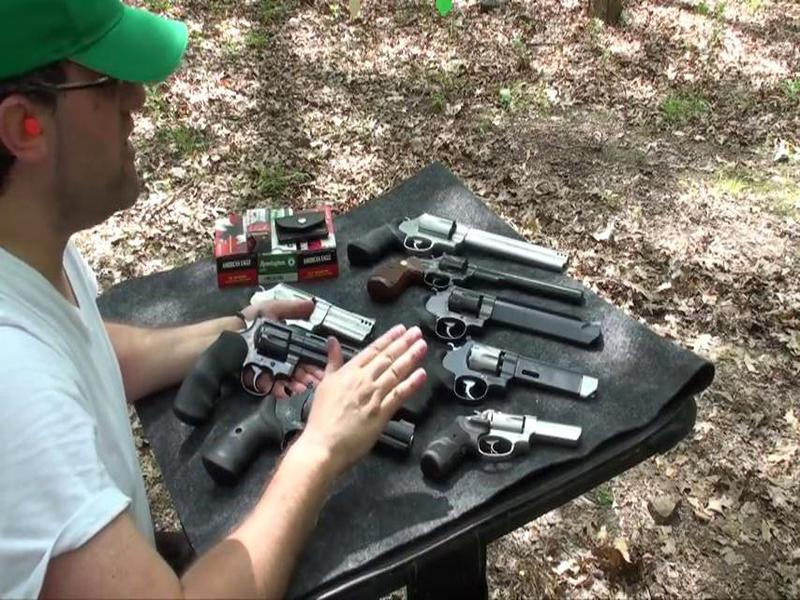Revolver: (172, 303, 377, 425)
